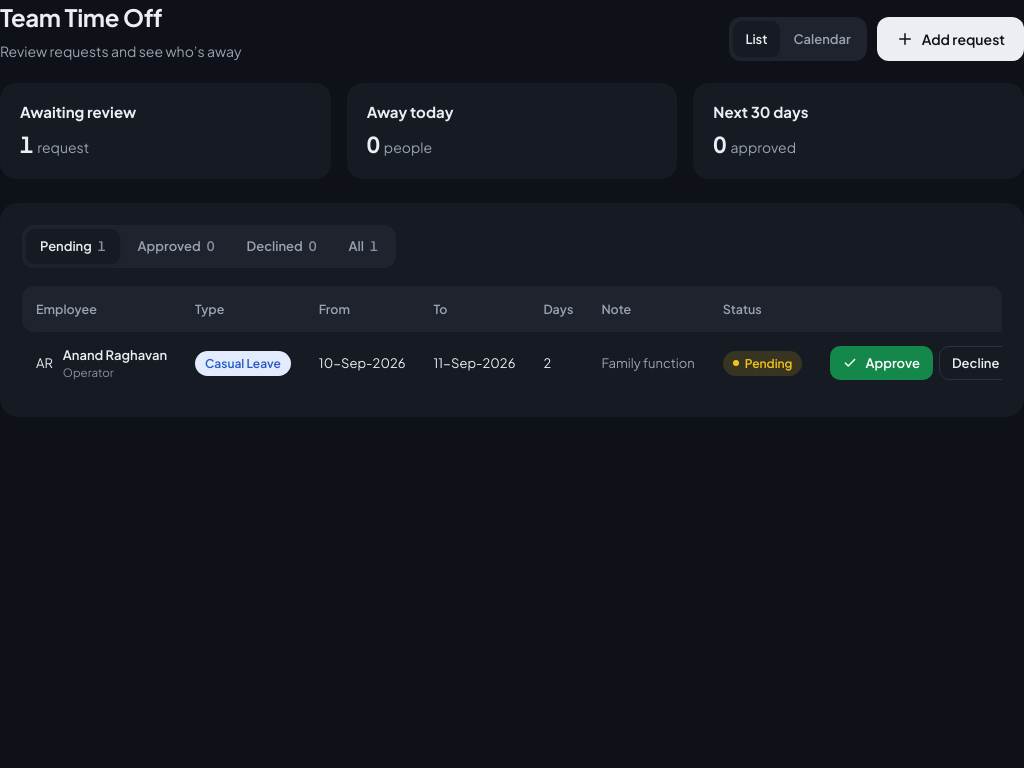
Test: Team Time Off › draws the month as a calendar with the request on its days
Click the button "Calendar" at (822, 39), box [782,21,863,57]
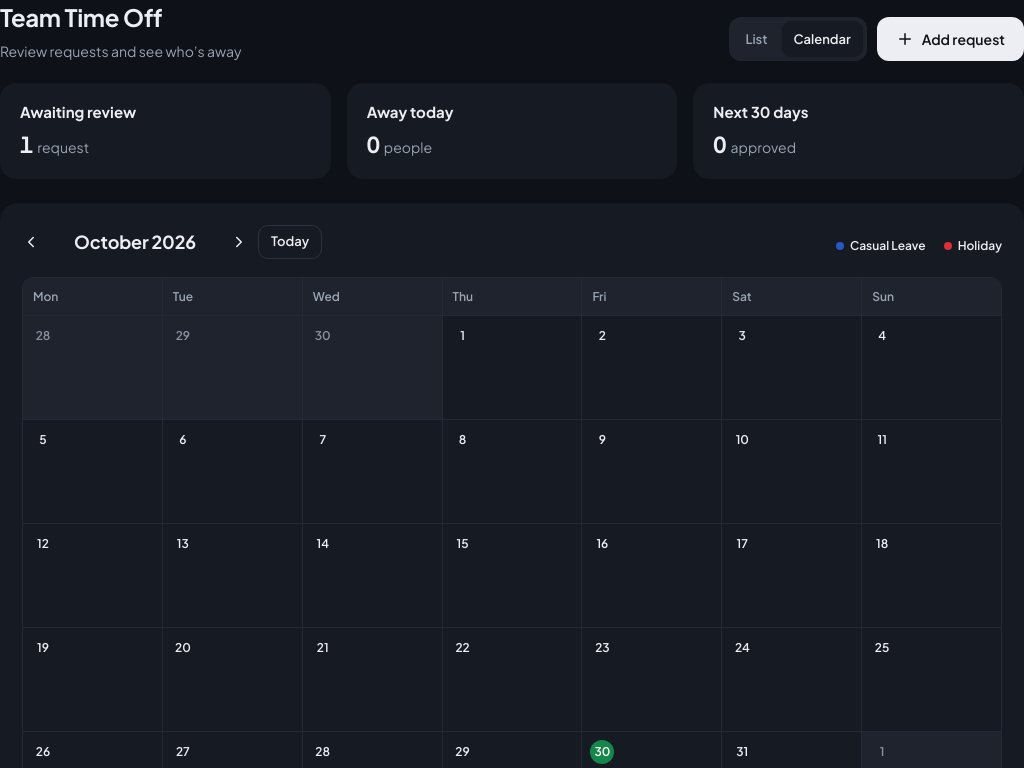
Now the number of elements with class "k-dc" is 42
